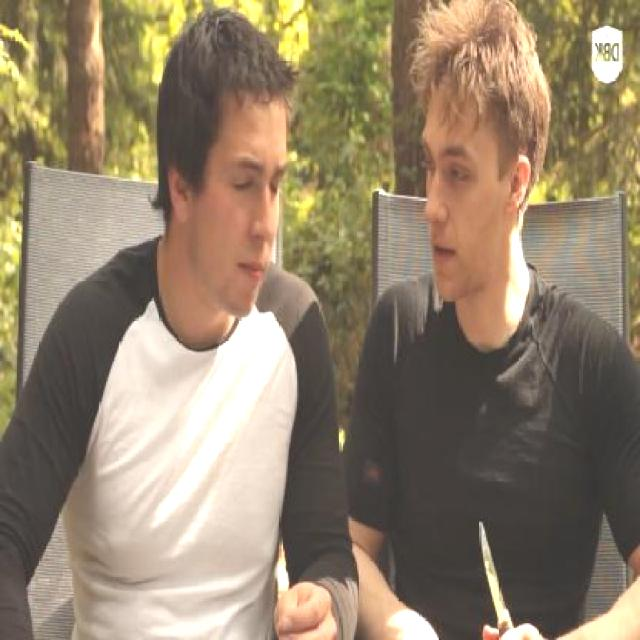knife: (466, 503, 534, 640)
